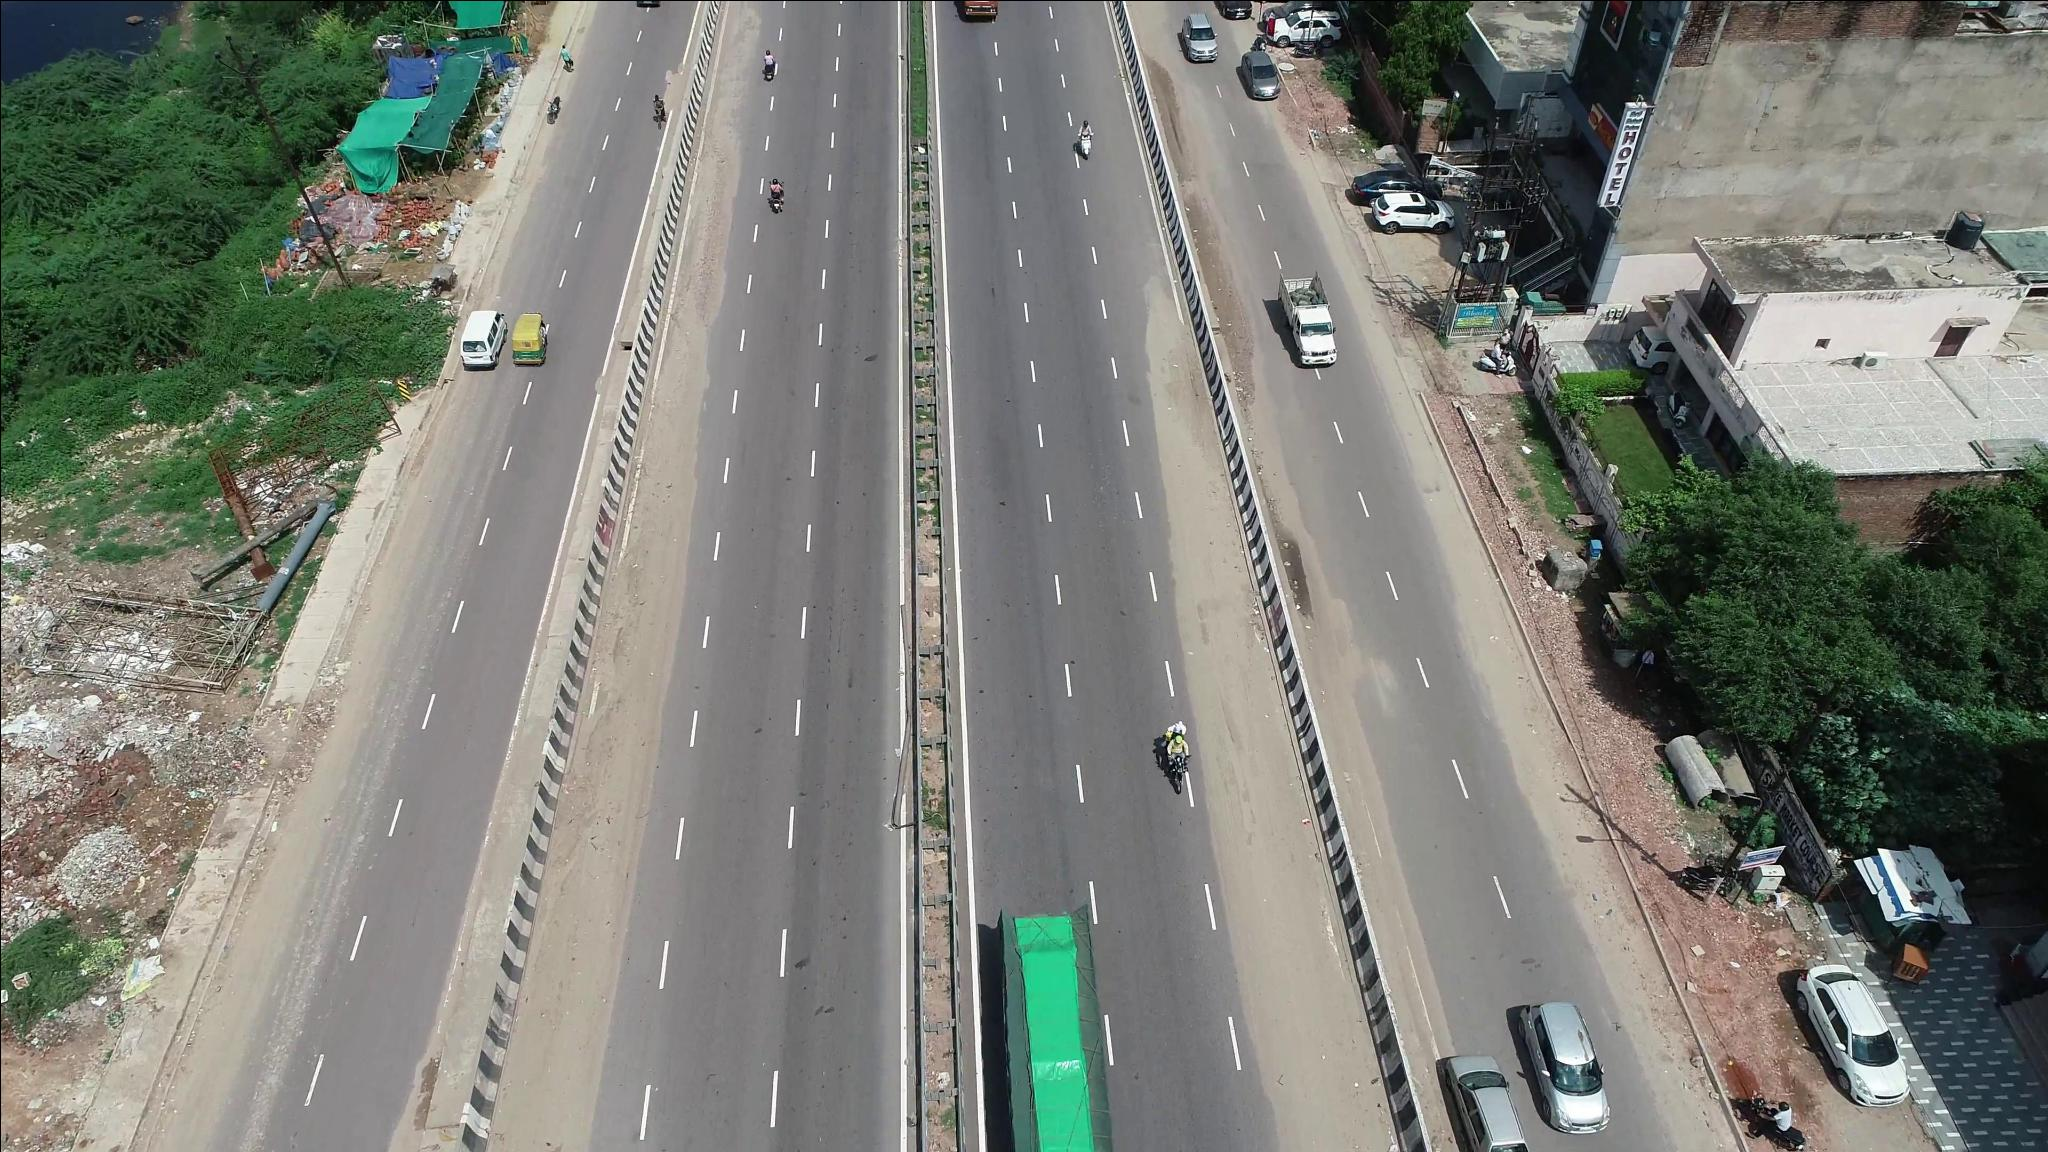Muddy_road: (1207, 788, 1367, 1129), (511, 857, 643, 1127), (1151, 422, 1272, 715), (582, 558, 689, 821), (637, 291, 715, 550)
